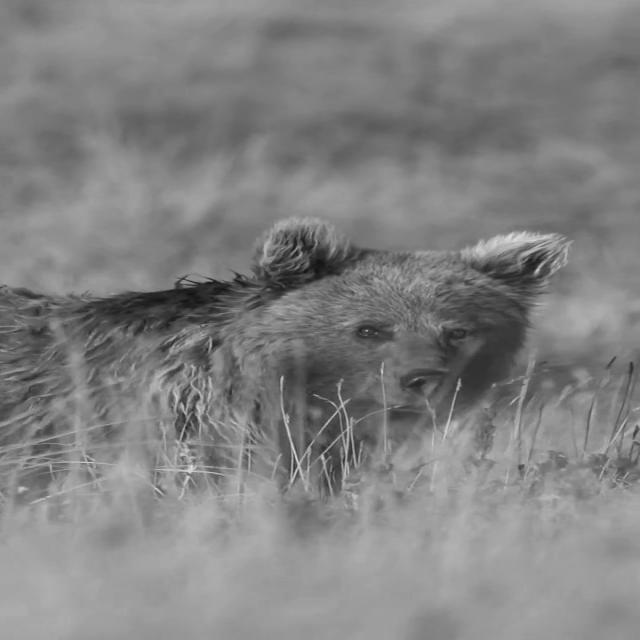Bear: (0, 215, 572, 525)
